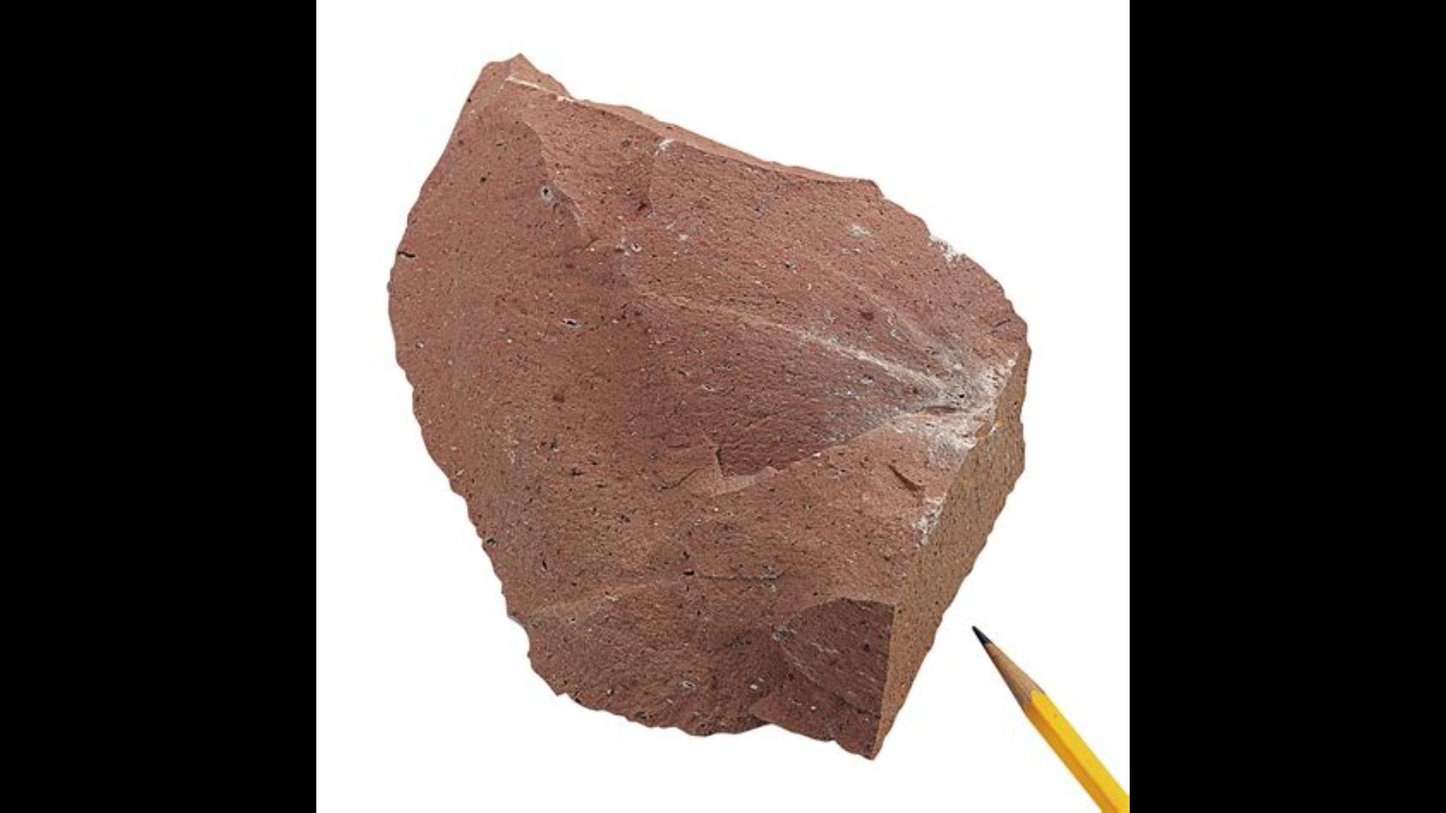rock: (390, 58, 1022, 755)
